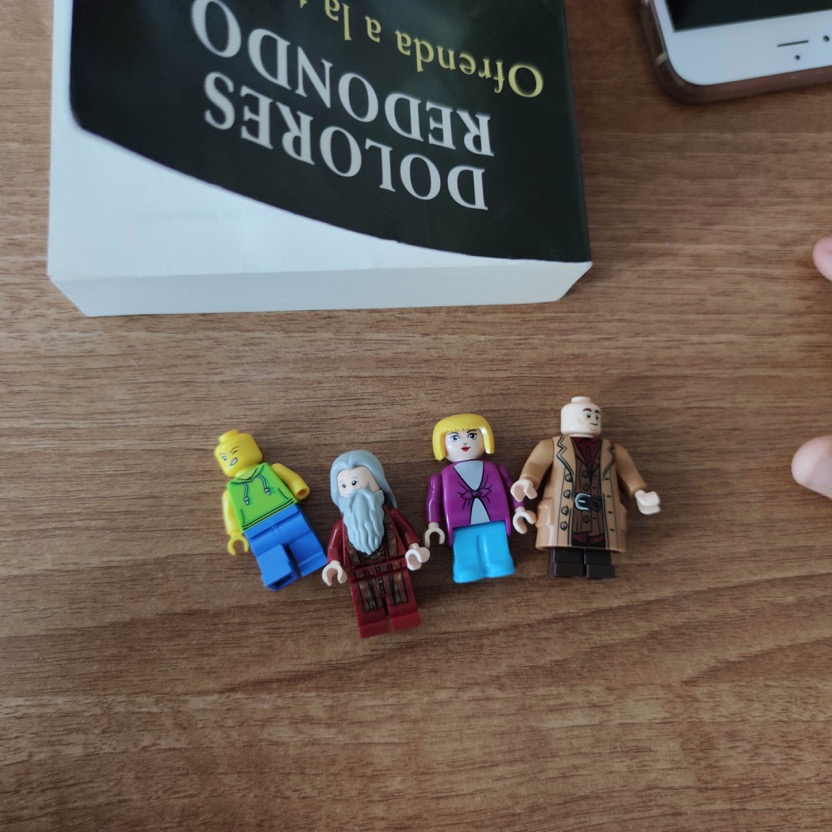lego: (511, 394, 661, 580), (324, 448, 430, 641), (210, 428, 332, 591), (426, 413, 536, 587)
